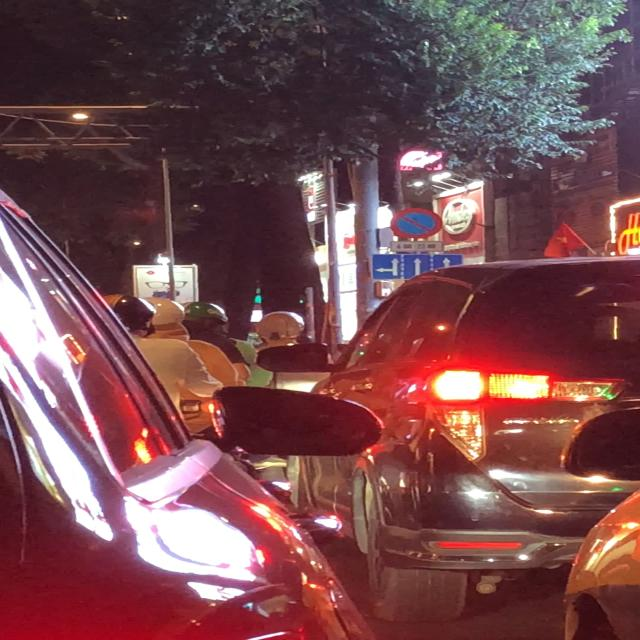Bien bao cam do xe: (386, 208, 448, 241)
